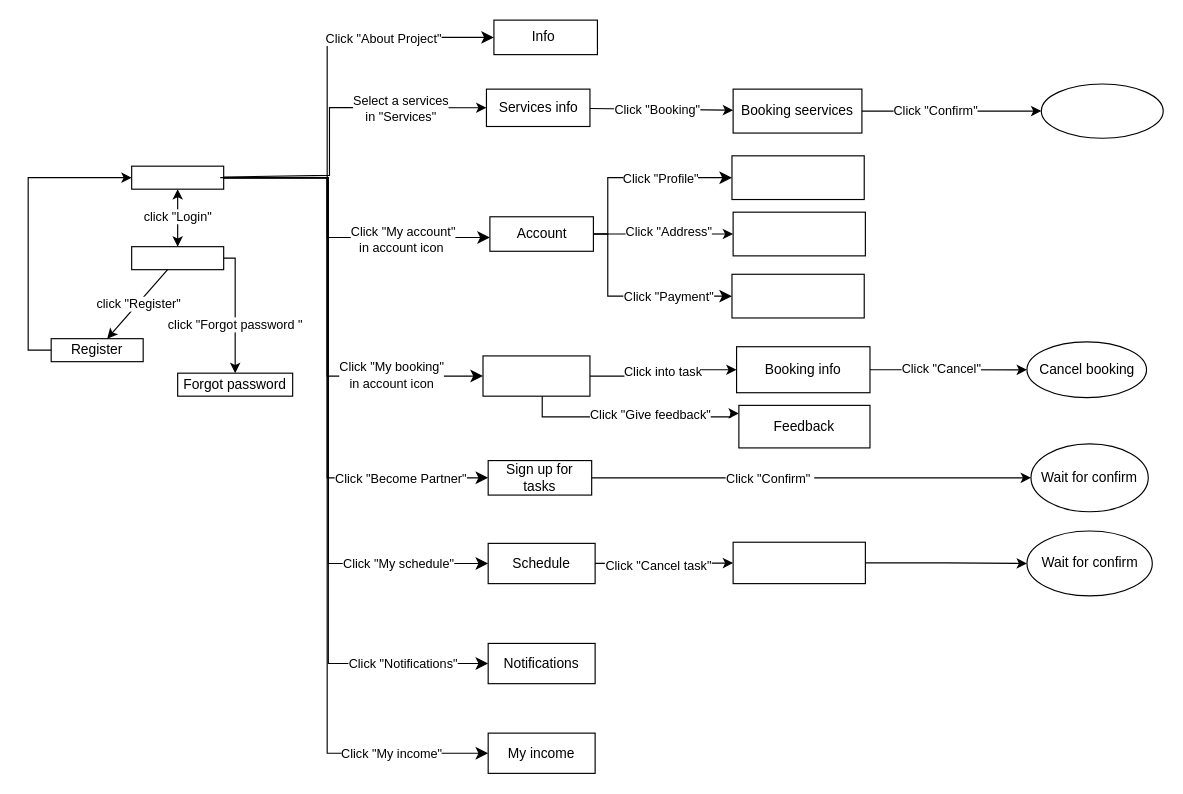
Some shapes in this 1183 by 794 pixel diagram are drawn without their labels. The shapes that lost their labels are listed below. From the top down, each one's centre as x and y in pixels, then its label:
point 1101,110: Booking information
point 177,177: Home
point 797,177: My Profile
point 798,233: Address
point 177,258: Login
point 797,295: Payment
point 536,375: Booking list
point 798,562: Cancel task
